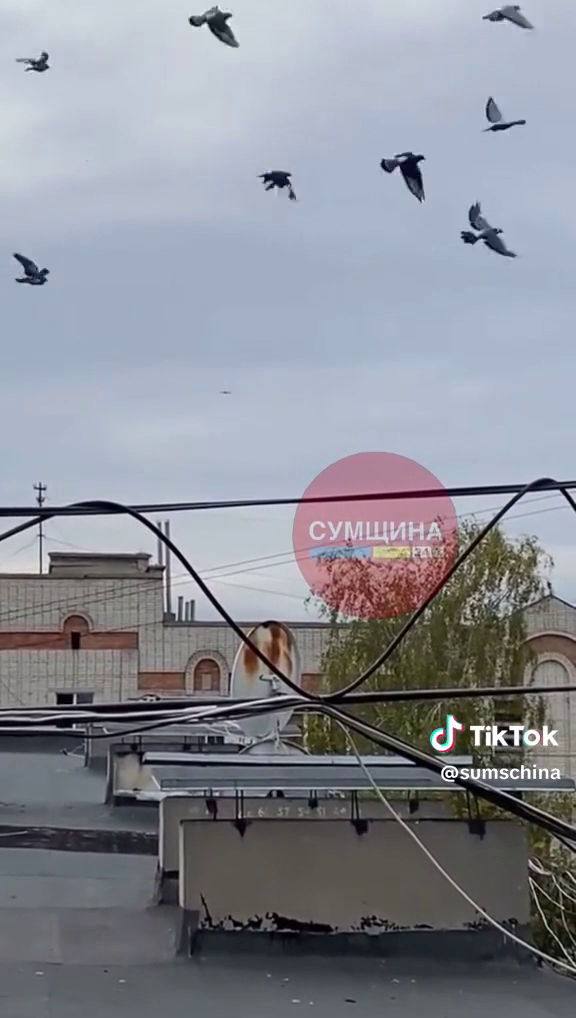not_drone: (453, 196, 523, 264), (377, 142, 432, 208), (185, 2, 244, 52), (9, 246, 54, 294), (479, 95, 529, 136), (480, 3, 540, 34), (254, 166, 300, 204), (10, 47, 54, 77)
